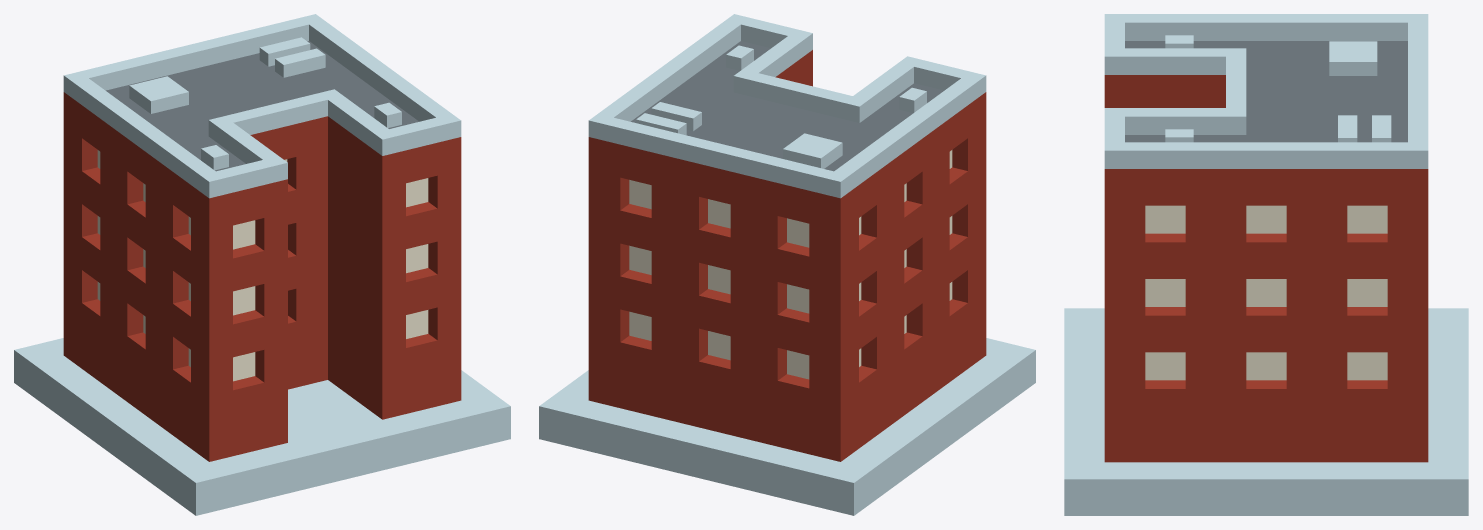
Rendered from Building_5_Base_Extra (Red).obj.
3 views of the same model, side by side, from view 1: azimuth 30°, elevation 25°; view 2: azimuth 150°, elevation 25°; view 3: azimuth 270°, elevation 25° (orthographic). The views are drawn at different scales.
Parts seen in each view (by area): view 1: Building_5_Base_Extra_(Red); view 2: Building_5_Base_Extra_(Red); view 3: Building_5_Base_Extra_(Red).
Boxes of the visible parts, <box> form: Building_5_Base_Extra_(Red): <box>14,14,510,515</box>; Building_5_Base_Extra_(Red): <box>539,14,1035,515</box>; Building_5_Base_Extra_(Red): <box>1064,14,1468,515</box>.
Size of the model in its own units: 2 by 1.9 by 2.
